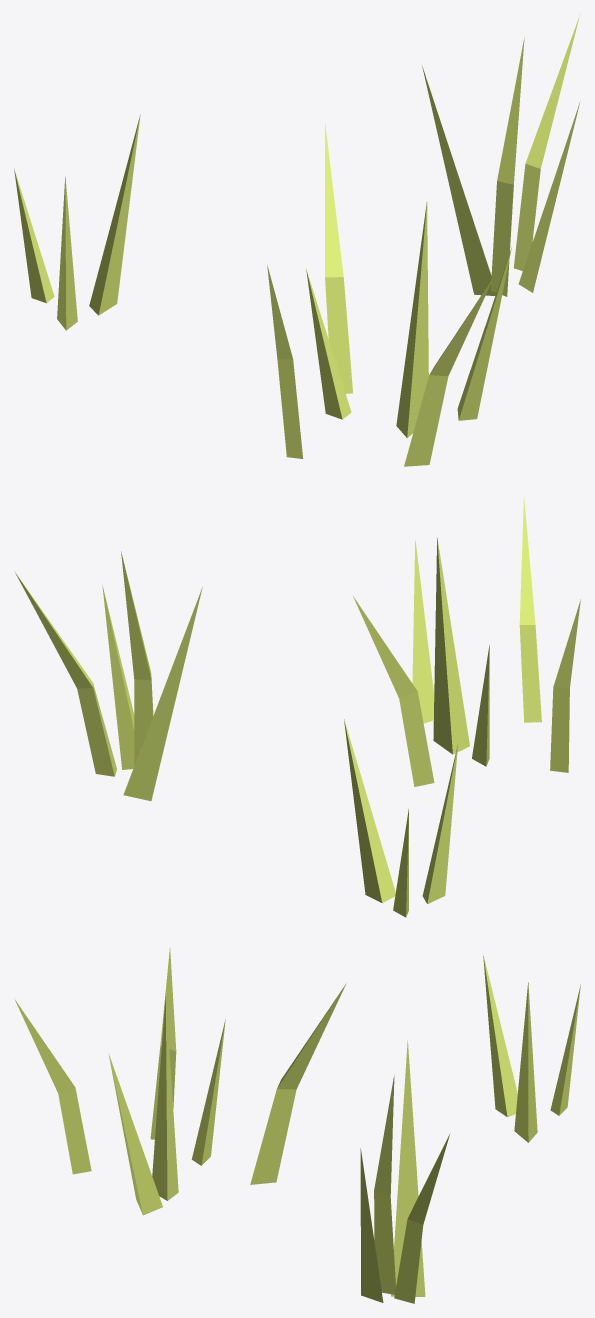
The model's file is Grass_C.fbx.
3 renders of one model, top to bottom at view 1: azimuth 30°, elevation 25°; view 2: azimuth 150°, elevation 25°; view 3: azimuth 270°, elevation 25°, orthographic. The views are drawn at different scales.
Parts seen in each view (by area): view 1: Grass3D_a_07; view 2: Grass3D_a_07; view 3: Grass3D_a_07.
Part boxes in pixels (x1,y1,x2,y2): Grass3D_a_07: [14, 15, 579, 466]; Grass3D_a_07: [15, 497, 580, 917]; Grass3D_a_07: [15, 947, 580, 1303].
Bounding box in the file's own units: 117 × 57.15 × 123.
